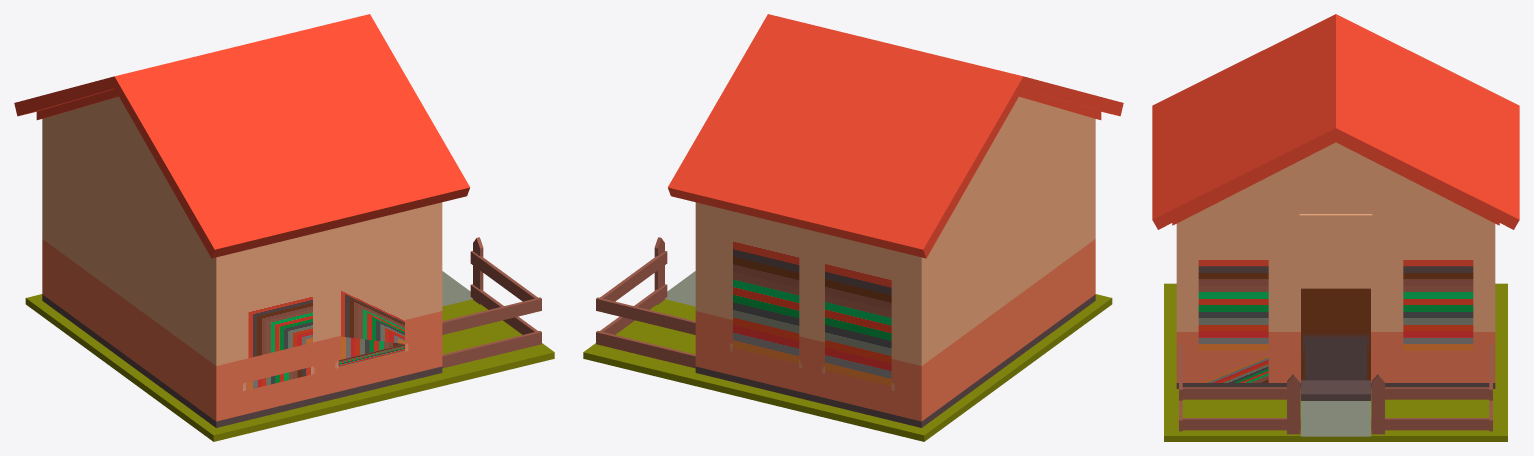
The model's file is house_1_LOD1.glb.
3 renders of one model, left to right at view 1: azimuth 30°, elevation 25°; view 2: azimuth 150°, elevation 25°; view 3: azimuth 270°, elevation 25°, orthographic. The views are drawn at different scales.
Parts seen in each view (by area): view 1: PublicBuilding_3_Pack3.001_0; view 2: PublicBuilding_3_Pack3.001_0; view 3: PublicBuilding_3_Pack3.001_0.
Part boxes in pixels (<box>): PublicBuilding_3_Pack3.001_0: <box>14,14,554,441</box>; PublicBuilding_3_Pack3.001_0: <box>583,14,1123,441</box>; PublicBuilding_3_Pack3.001_0: <box>1152,14,1519,441</box>.
Size of the model in its own units: 3.68 by 3.03 by 3.69.
1 material, 1 textured.
